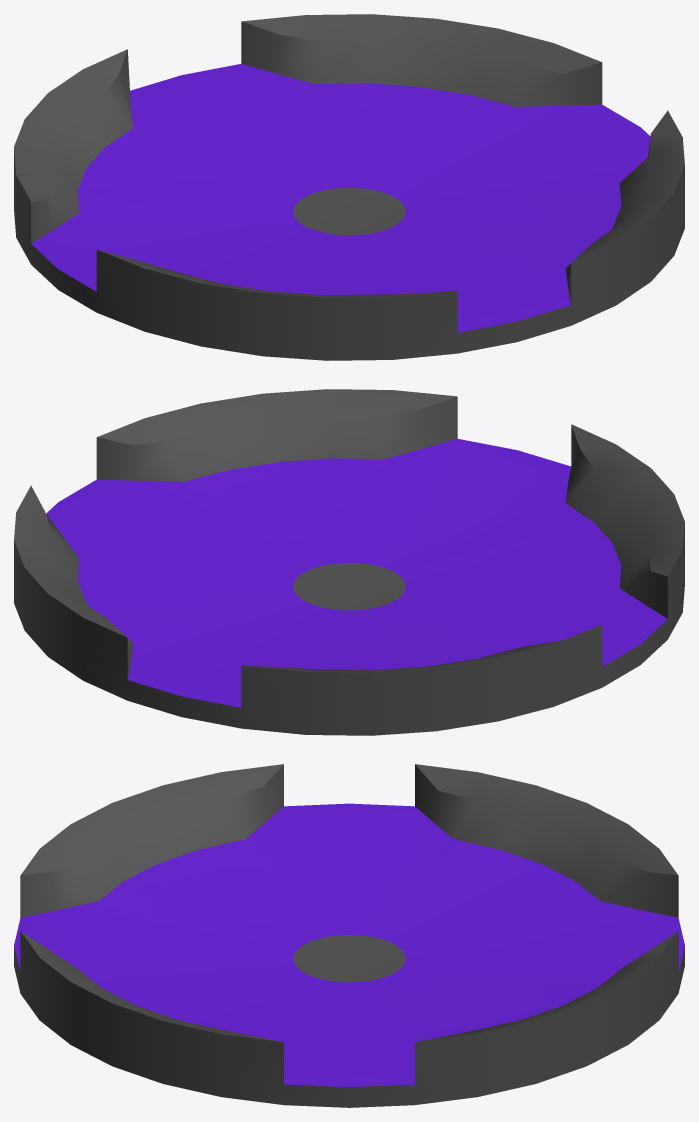
File: arena3.glb
3 views of the same model, one above another, from view 1: azimuth 30°, elevation 25°; view 2: azimuth 150°, elevation 25°; view 3: azimuth 270°, elevation 25° (orthographic).
Parts seen in each view (by area): view 1: arena; view 2: arena; view 3: arena.
Part boxes in pixels (x1=…): arena: x1=14, y1=14, x2=684, y2=360; arena: x1=14, y1=389, x2=684, y2=735; arena: x1=14, y1=764, x2=684, y2=1107.
Size of the model in its own units: 8.64 by 0.8946 by 8.64.
